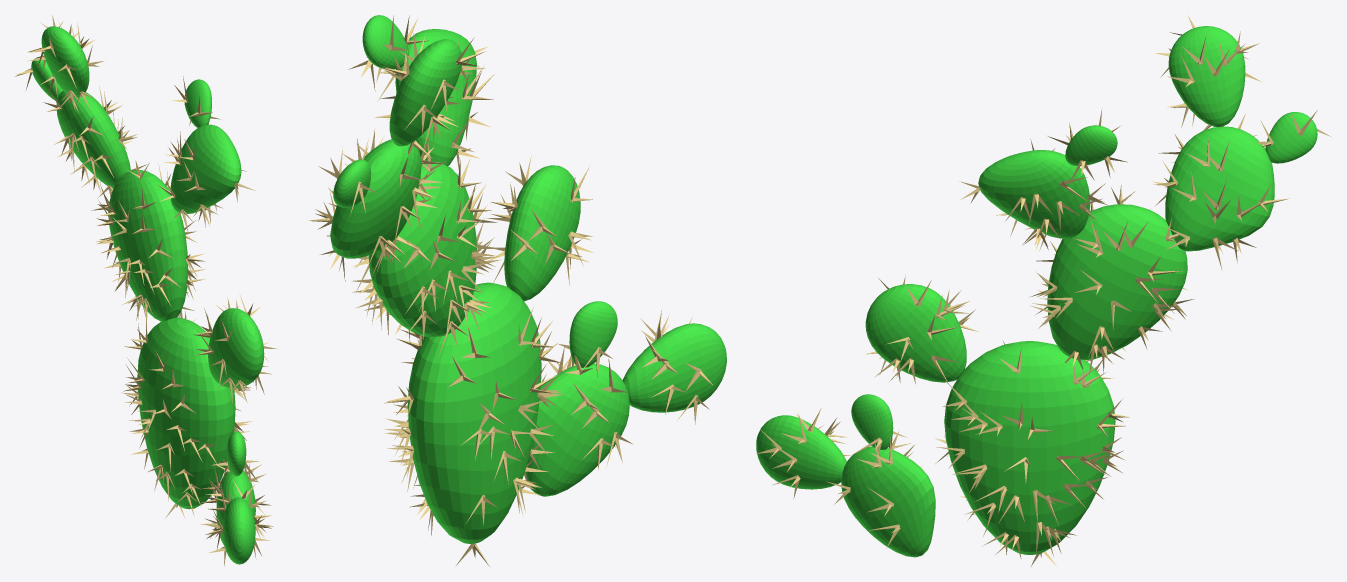
The model's file is cactiNopal.fbx.
3 renders of one model, left to right at view 1: azimuth 30°, elevation 25°; view 2: azimuth 150°, elevation 25°; view 3: azimuth 270°, elevation 25°, orthographic. The views are drawn at different scales.
Visible parts, largest first — view 1: nopal; view 2: nopal; view 3: nopal.
Part boxes in pixels (x1,y1,x2,y2): nopal: (31, 26, 264, 564); nopal: (330, 15, 726, 543); nopal: (756, 26, 1317, 557).
Size of the model in its own units: 57.3 by 180 by 182.
